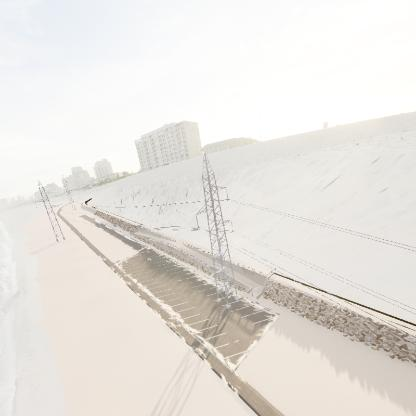tower: (191, 146, 246, 320), (27, 181, 68, 244)
